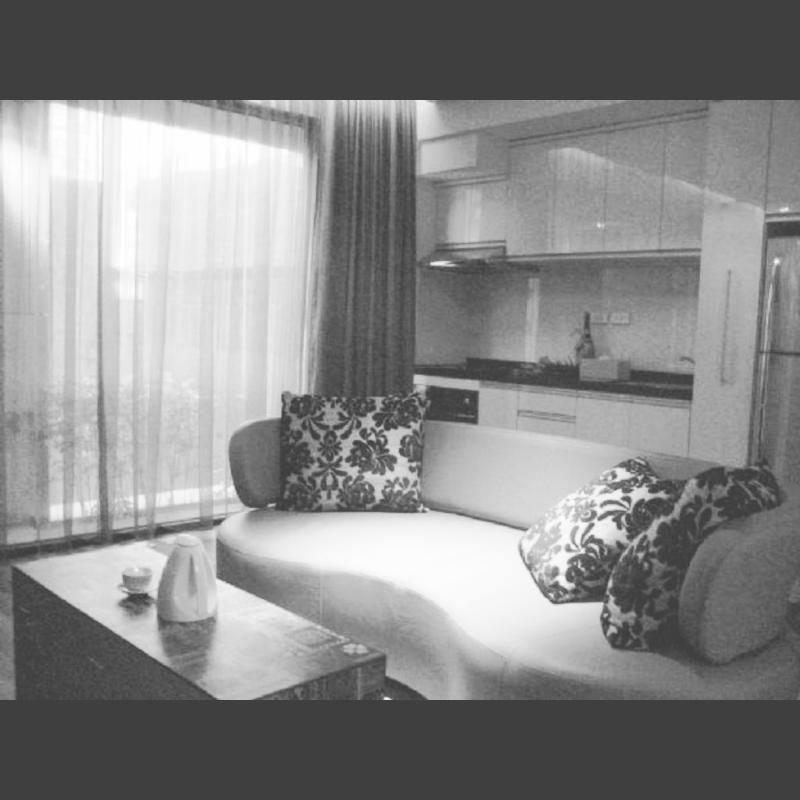pillow: (597, 462, 781, 652), (516, 454, 694, 598), (258, 396, 440, 526)
